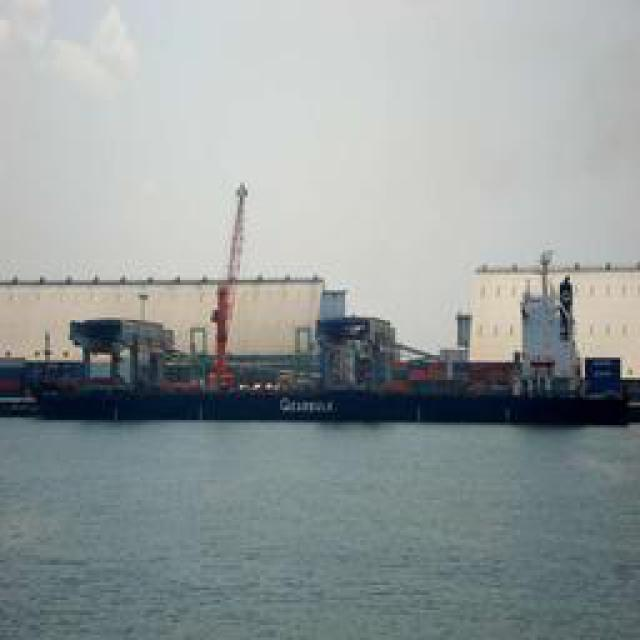Ship: (16, 244, 640, 428)
